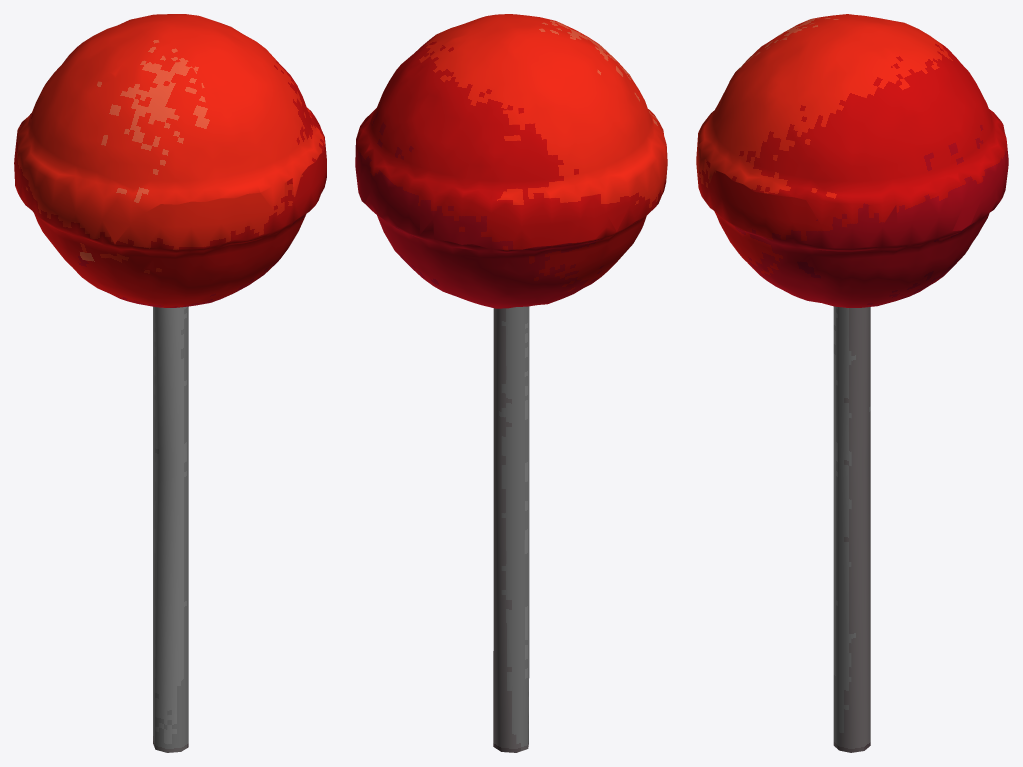
Rendered from lollipop_m.glb.
3 renders of one model, left to right at view 1: azimuth 30°, elevation 25°; view 2: azimuth 150°, elevation 25°; view 3: azimuth 270°, elevation 25°, orthographic.
Visible parts, largest first — view 1: mesh; view 2: mesh; view 3: mesh.
Part boxes in pixels (box(x1,y1,x2,y2)): mesh: box(14, 14, 326, 752); mesh: box(355, 14, 667, 752); mesh: box(696, 14, 1008, 752).
Bounding box in the file's own units: 0.1188 × 0.3 × 0.1182.
Materials: 1 (1 with a texture image).
